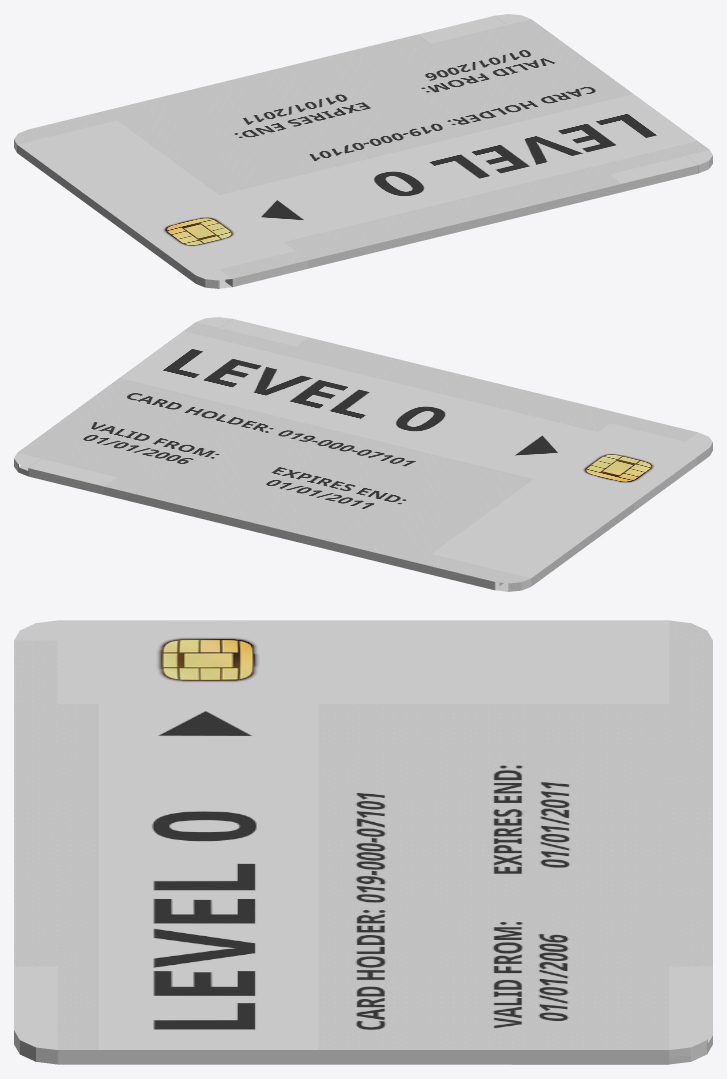
File: keycard.obj
The picture shows the model from 3 angles, top to bottom: view 1: azimuth 30°, elevation 25°; view 2: azimuth 150°, elevation 25°; view 3: azimuth 270°, elevation 25°; orthographic projection. The views are drawn at different scales.
Bounding box in the file's own units: 2.56 × 0.04 × 1.76.
